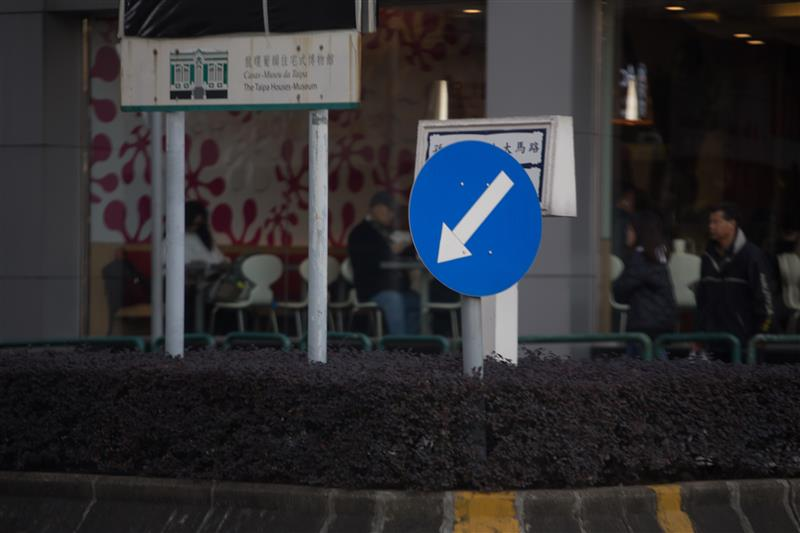keepLeft: (408, 140, 546, 296)
